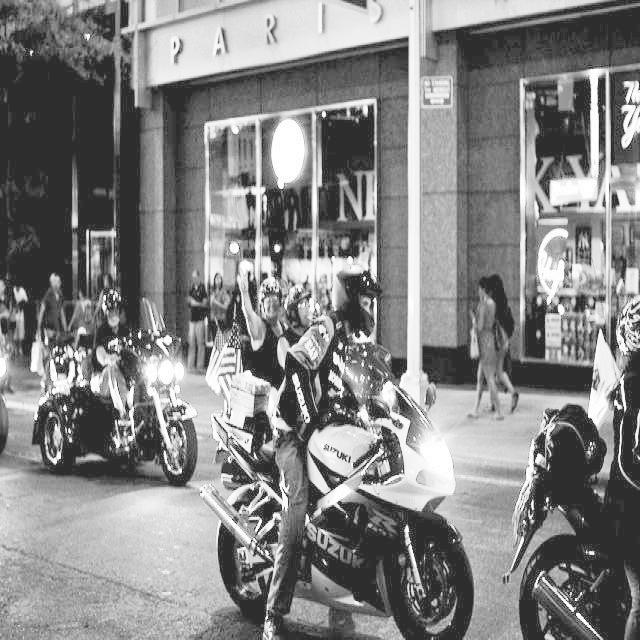Motorcycle: (195, 361, 482, 640), (510, 403, 640, 640), (96, 340, 206, 491), (29, 332, 100, 478)
